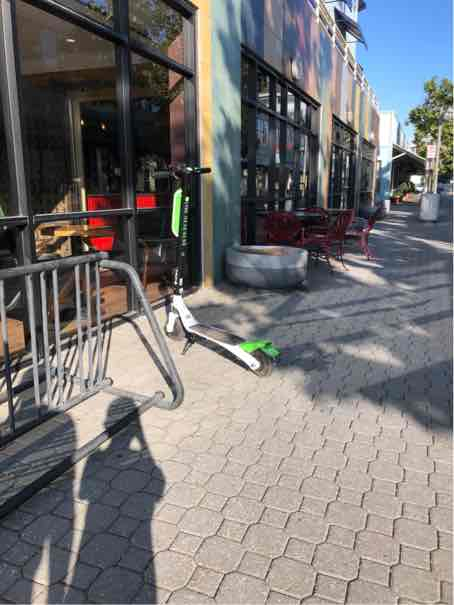scooter: (137, 158, 281, 381)
